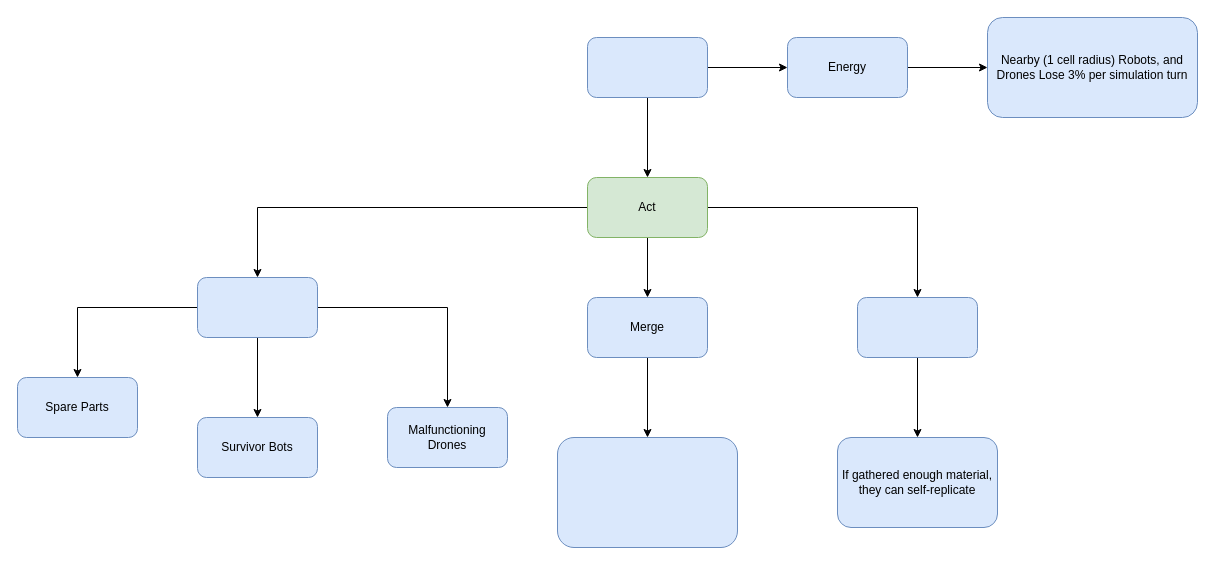
Image size: 1215x565. Some labels were removed from this diagram. The shapes that lost their labels are listed below. From the top down, each one's centre as x and y in pixels, then its label:
At pixel 647 67: "Scanvenger Swarms".
At pixel 257 307: "Consume".
At pixel 917 327: "Self-Replicate".
At pixel 647 492: "When Multiple are together, they merge to become bigger and consume faster".
